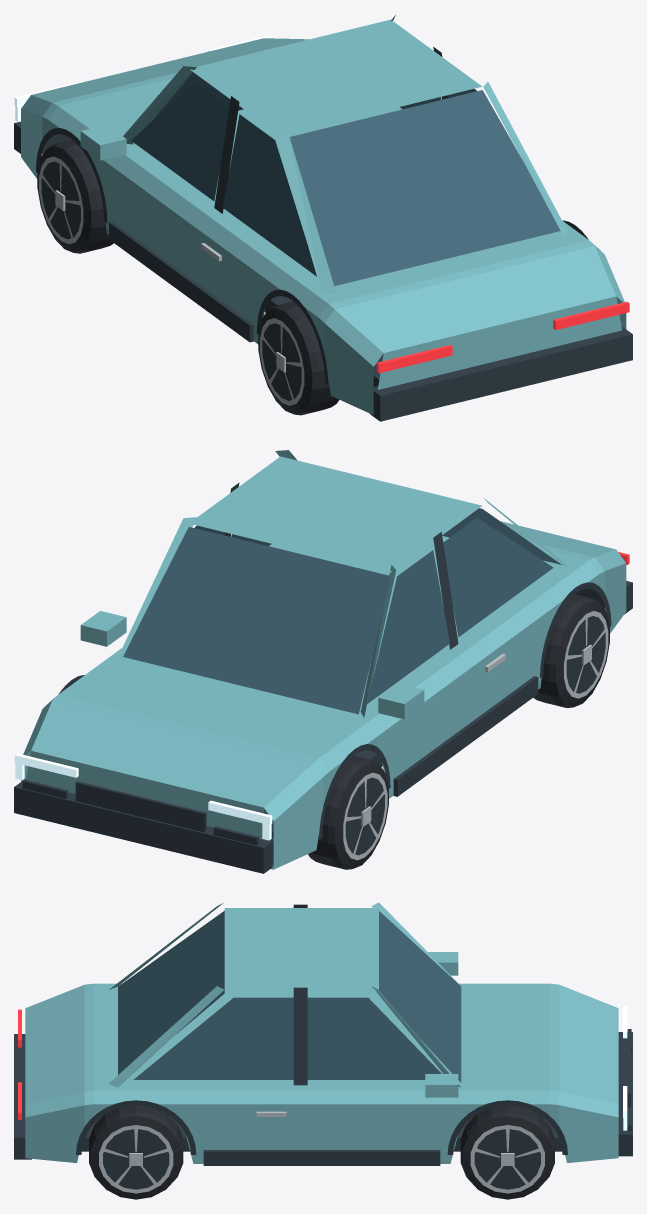
The model's file is luma_c.glb.
3 views of the same model, one above another, from view 1: azimuth 30°, elevation 25°; view 2: azimuth 150°, elevation 25°; view 3: azimuth 270°, elevation 25° (orthographic). The views are drawn at different scales.
Parts seen in each view (by area): view 1: Body, Wheel_2, Wheel_0; view 2: Body, Wheel_0, Wheel_2; view 3: Body, Wheel_3, Wheel_1.
Boxes of the visible parts, box(x1,y1,x2,y2) form: Body: box(14, 15, 632, 421); Wheel_2: box(258, 301, 339, 415); Wheel_0: box(37, 139, 113, 253); Body: box(14, 450, 632, 873); Wheel_0: box(308, 755, 388, 869); Wheel_2: box(533, 594, 609, 707); Body: box(14, 902, 632, 1165); Wheel_3: box(89, 1105, 183, 1199); Wheel_1: box(460, 1105, 554, 1199).
Bounding box in the file's own units: 2.1 × 1.43 × 4.13.
